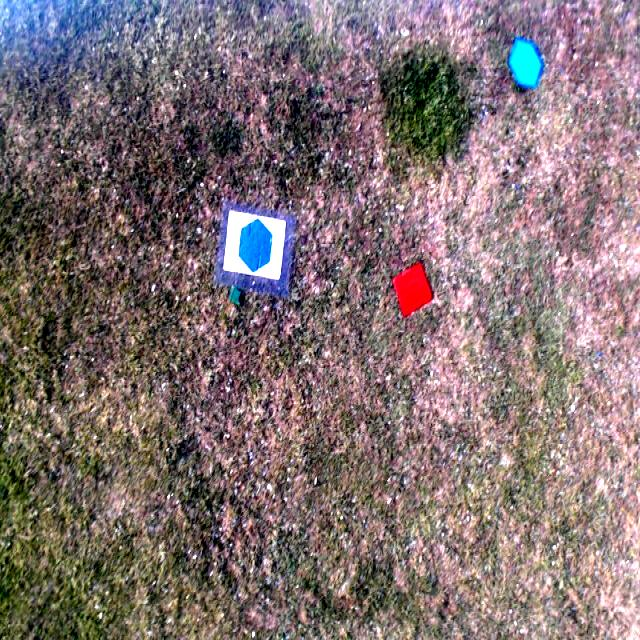blue_hexagon: (238, 218, 273, 272), (509, 39, 542, 88)
red_square: (394, 263, 431, 315)
